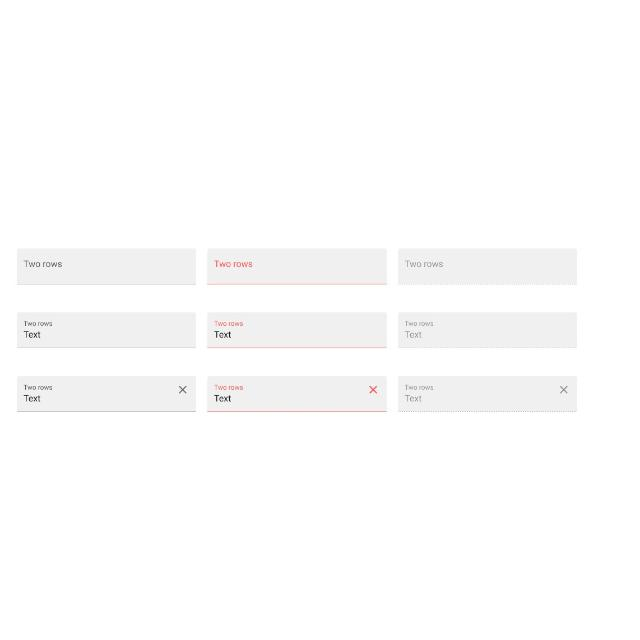VTextarea: (16, 310, 198, 348), (206, 310, 388, 348), (206, 375, 388, 413), (16, 375, 198, 413), (398, 310, 578, 348), (398, 374, 578, 412), (398, 247, 576, 285), (206, 248, 388, 284), (15, 248, 196, 284)
